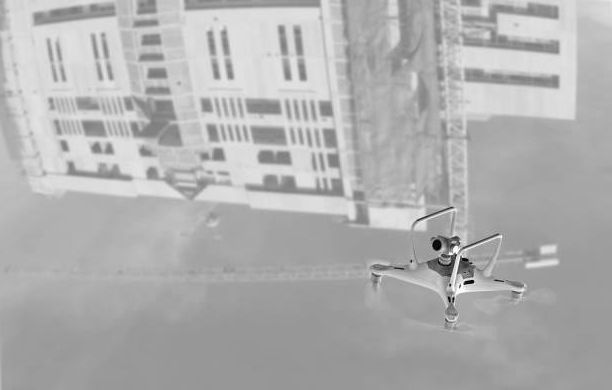Drone: (360, 202, 544, 335)
